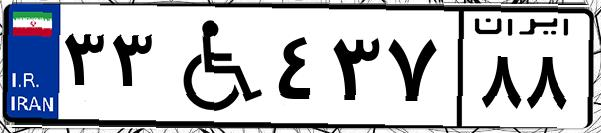3: (330, 28, 385, 110), (57, 26, 110, 100), (110, 28, 158, 98)
4: (270, 28, 330, 110)
7: (385, 28, 445, 110)
8: (475, 38, 525, 113), (525, 38, 570, 115)
ژ (معلولین و جانبازان): (158, 12, 270, 120)
